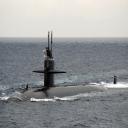submarine: (8, 32, 118, 102)
